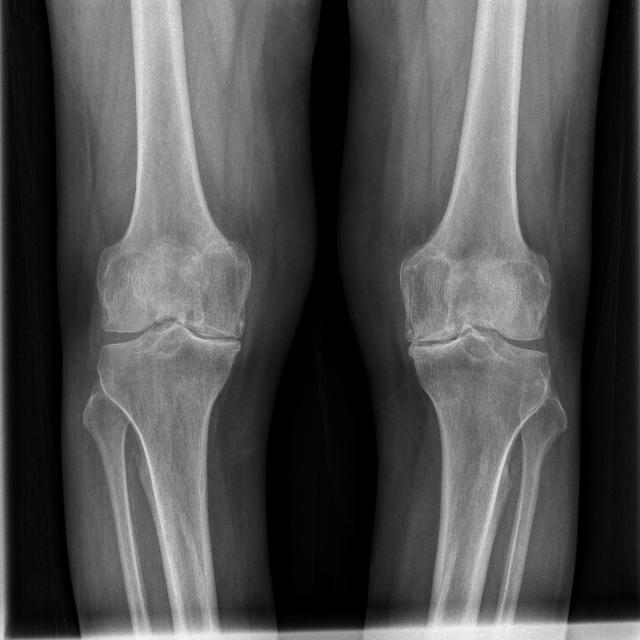Knee: (92, 266, 253, 399), (396, 278, 553, 402)
